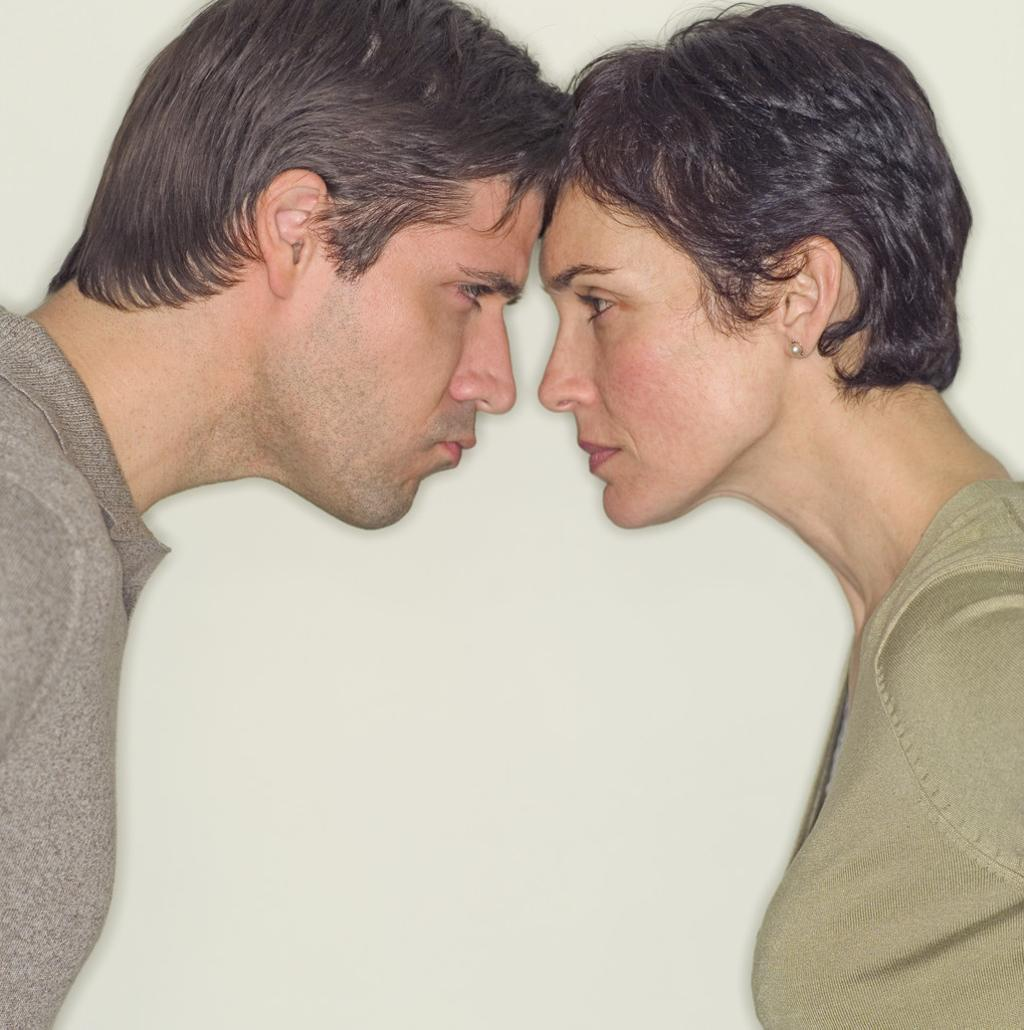face: (285, 129, 546, 525), (538, 155, 783, 526)
